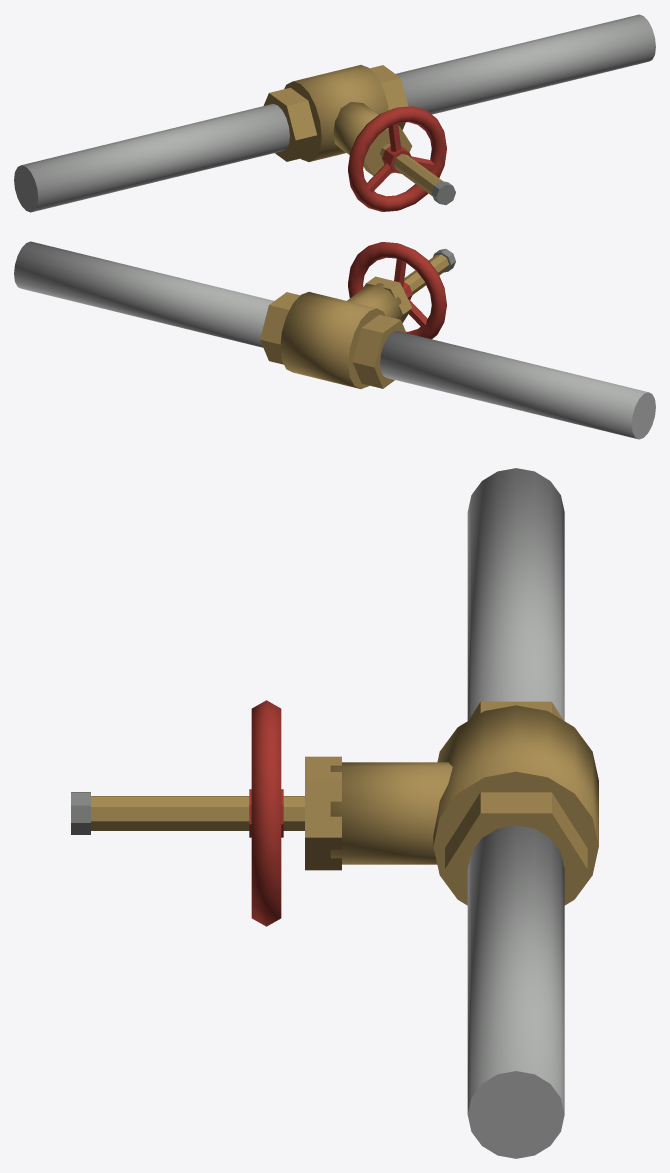
The model's file is valve_open_ew.obj.
3 views of the same model, one above another, from view 1: azimuth 30°, elevation 25°; view 2: azimuth 150°, elevation 25°; view 3: azimuth 270°, elevation 25° (orthographic). The views are drawn at different scales.
Parts seen in each view (by area): view 1: pipe8, pipe2, valve_body, valve_wheel, valve_hex8, valve_bonnet, valve_stem, valve_hex2, valve_nut, valve_stem_tip, valve_hub, valve_spoke1; view 2: pipe8, pipe2, valve_body, valve_wheel, valve_hex8, valve_hex2, valve_bonnet, valve_nut, valve_stem; view 3: pipe2, pipe8, valve_body, valve_bonnet, valve_wheel, valve_hex2, valve_stem, valve_nut.
Part boxes in pixels (x1=…): pipe8: x1=14, y1=104, x2=289, y2=212; pipe2: x1=396, y1=14, x2=655, y2=114; valve_body: x1=284, y1=65, x2=388, y2=161; valve_wheel: x1=348, y1=106, x2=446, y2=211; valve_hex8: x1=263, y1=87, x2=317, y2=161; valve_bonnet: x1=333, y1=102, x2=378, y2=154; valve_stem: x1=380, y1=144, x2=442, y2=195; valve_hex2: x1=370, y1=65, x2=408, y2=129; valve_nut: x1=363, y1=125, x2=412, y2=175; valve_stem_tip: x1=431, y1=181, x2=455, y2=204; valve_hub: x1=382, y1=146, x2=411, y2=173; valve_spoke1: x1=367, y1=163, x2=392, y2=192; pipe8: x1=380, y1=331, x2=655, y2=439; pipe2: x1=14, y1=241, x2=273, y2=347; valve_body: x1=280, y1=292, x2=385, y2=388; valve_wheel: x1=348, y1=242, x2=446, y2=339; valve_hex8: x1=352, y1=314, x2=406, y2=388; valve_hex2: x1=260, y1=292, x2=299, y2=364; valve_bonnet: x1=347, y1=283, x2=401, y2=319; valve_nut: x1=362, y1=276, x2=412, y2=322; valve_stem: x1=404, y1=254, x2=449, y2=294; pipe2: x1=467, y1=825, x2=564, y2=1158; pipe8: x1=467, y1=468, x2=564, y2=720; valve_body: x1=433, y1=705, x2=598, y2=905; valve_bonnet: x1=330, y1=762, x2=452, y2=864; valve_wheel: x1=251, y1=700, x2=281, y2=926; valve_hex2: x1=445, y1=792, x2=587, y2=904; valve_stem: x1=91, y1=796, x2=304, y2=830; valve_nut: x1=305, y1=756, x2=341, y2=870.
Bounding box in the file's own units: 1 × 0.16 × 0.37.
Materials: 4 (4 with a texture image).
